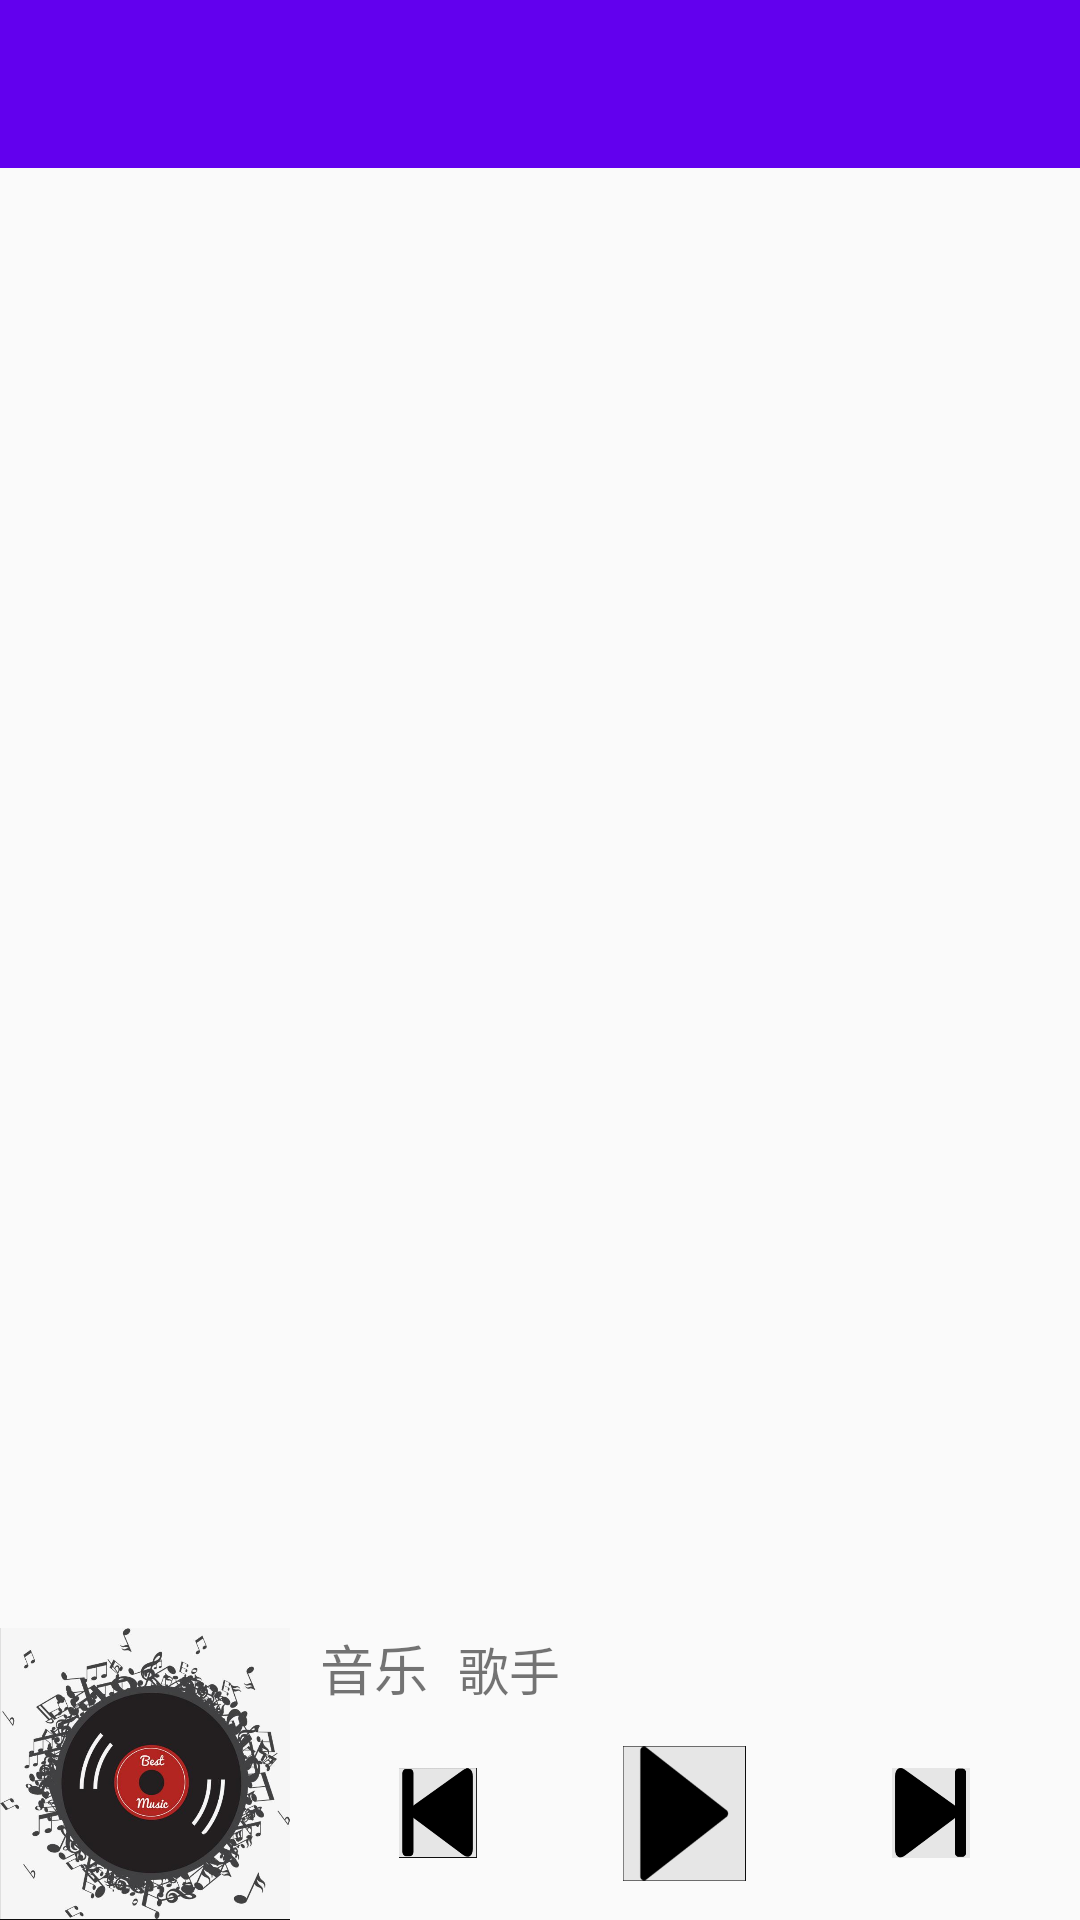

Locate icon controls on the screen. Image size 1080×1920, boxes as (x1, y1, x2, y2).
next: (895, 1768, 966, 1858)
previous: (399, 1768, 477, 1858)
